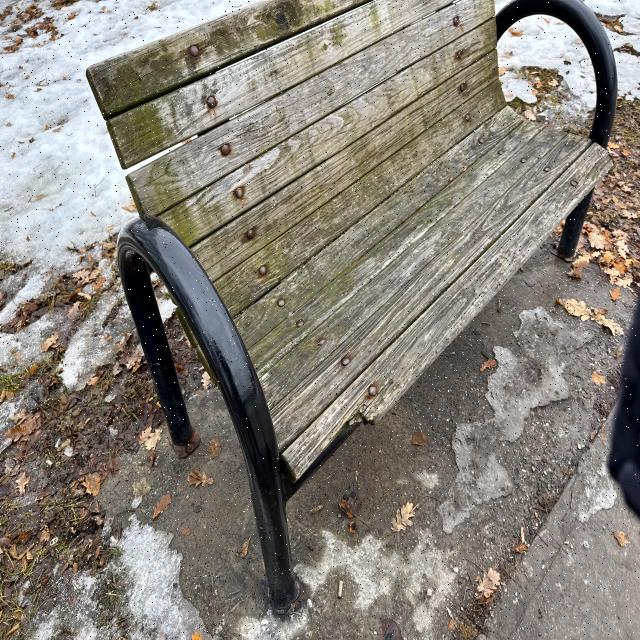Bench: (85, 3, 574, 575)
